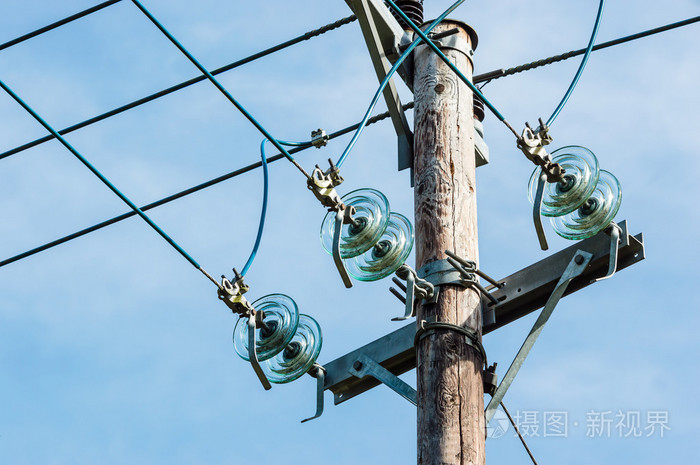insulator: (528, 144, 619, 238), (323, 186, 415, 278), (233, 293, 325, 383)
